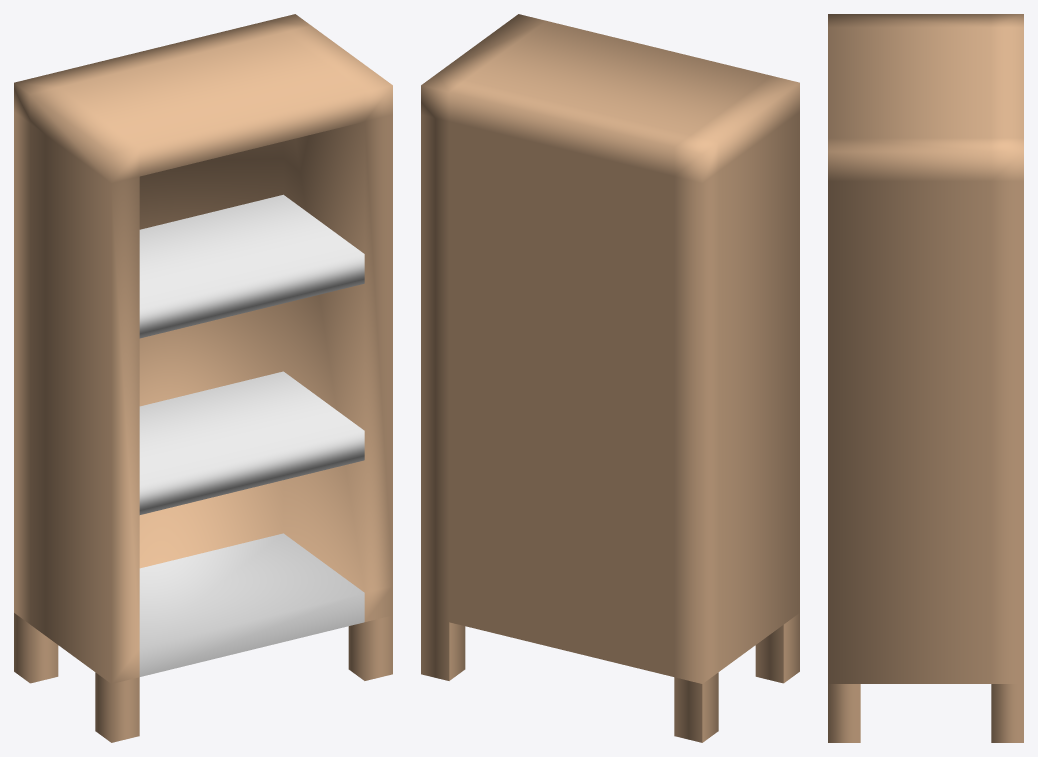
The model's file is shelf.glb.
The picture shows the model from 3 angles, left to right: view 1: azimuth 30°, elevation 25°; view 2: azimuth 150°, elevation 25°; view 3: azimuth 270°, elevation 25°; orthographic projection.
Parts seen in each view (by area): view 1: ThickerWall.007; view 2: ThickerWall.007; view 3: ThickerWall.007.
Part boxes in pixels (x1,y1,x2,y2): ThickerWall.007: (14, 14, 392, 742); ThickerWall.007: (421, 14, 799, 742); ThickerWall.007: (828, 14, 1023, 742).
Size of the model in its own units: 1 by 2 by 0.6.
